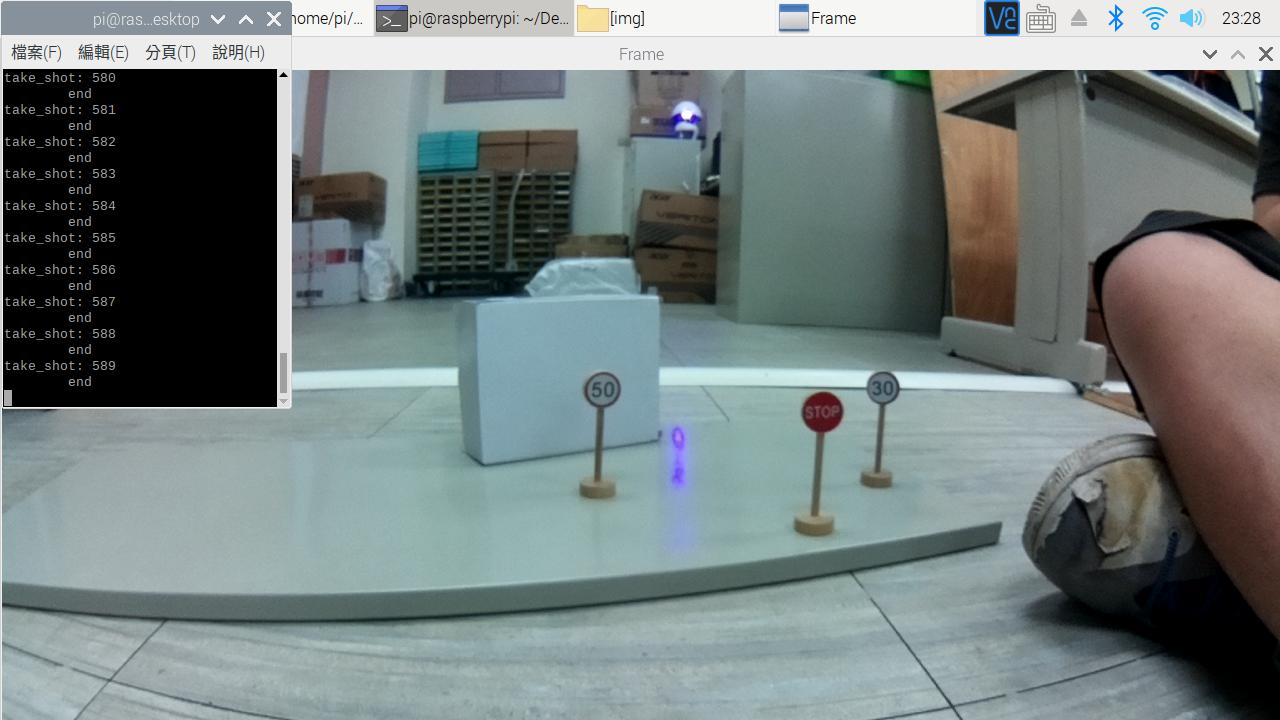Speed30: (853, 360, 905, 412)
Speed50: (578, 370, 626, 413)
Stop: (798, 392, 850, 442)
